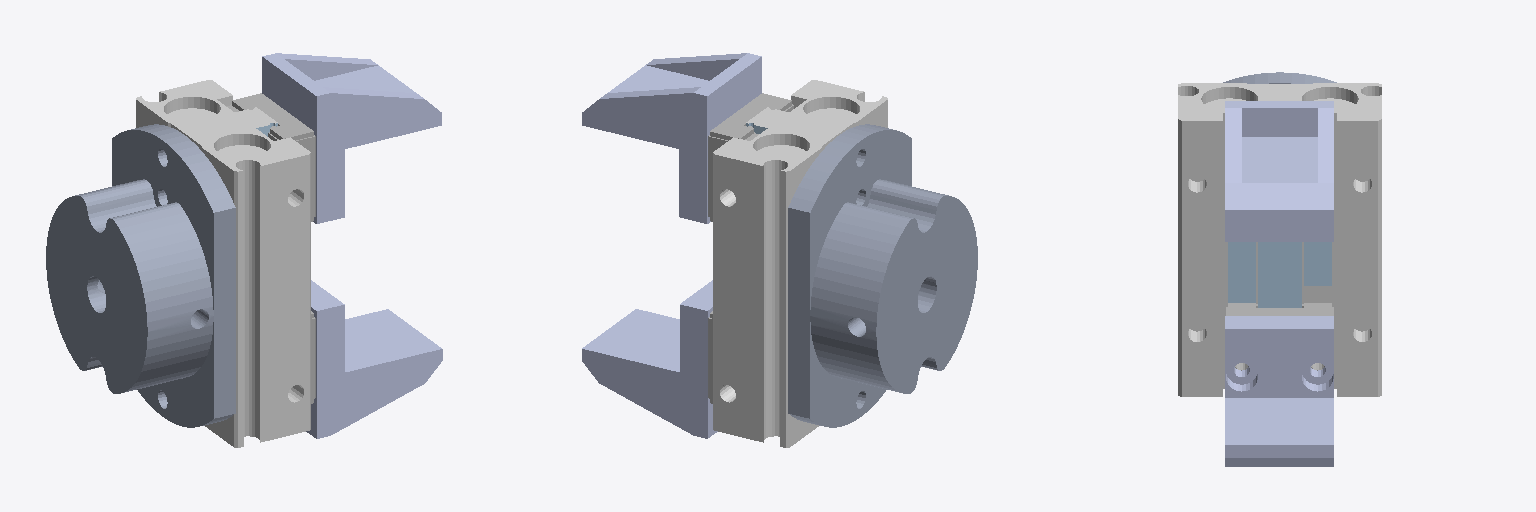
The picture shows the model from 3 angles: view 1: azimuth 30°, elevation 25°; view 2: azimuth 150°, elevation 25°; view 3: azimuth 270°, elevation 25°; orthographic projection.
Parts seen in each view (by area): view 1: Body1:1, Body1:3, Body1:2, Body1, Body3; view 2: Body1:1, Body1:3, Body1:2, Body1, Body3; view 3: Body1:3, Body1, Body1:2, Body2, Body3, Body1:1.
Part boxes in pixels (bbox=[...]): Body1:1: bbox=[46, 124, 235, 427]; Body1:3: bbox=[136, 80, 310, 447]; Body1:2: bbox=[262, 53, 441, 223]; Body1: bbox=[306, 280, 442, 438]; Body3: bbox=[226, 93, 315, 221]; Body1:1: bbox=[788, 124, 977, 427]; Body1:3: bbox=[713, 80, 887, 447]; Body1:2: bbox=[582, 53, 761, 223]; Body1: bbox=[582, 280, 717, 438]; Body3: bbox=[708, 93, 793, 221]; Body1:3: bbox=[1178, 83, 1381, 396]; Body1: bbox=[1225, 316, 1333, 466]; Body1:2: bbox=[1225, 101, 1333, 241]; Body2: bbox=[1226, 242, 1333, 370]; Body3: bbox=[1304, 242, 1331, 285]; Body1:1: bbox=[1223, 72, 1336, 83].
Size of the model in its own units: 5.79 by 5.95 by 3.2.